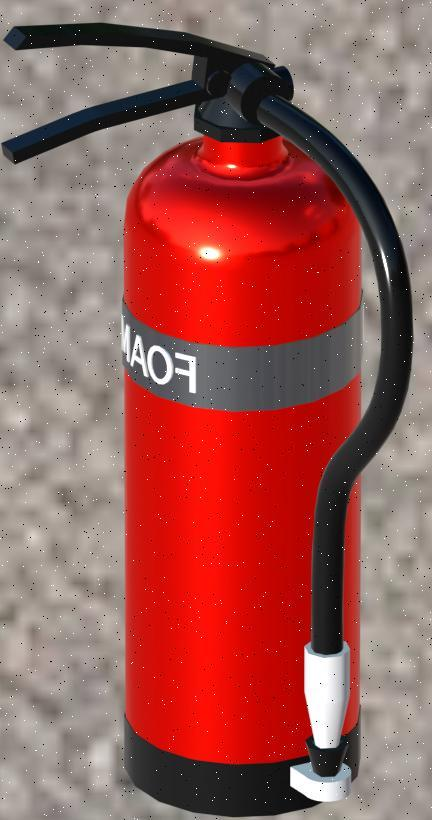Fire Extinguisher: (0, 0, 428, 820)
